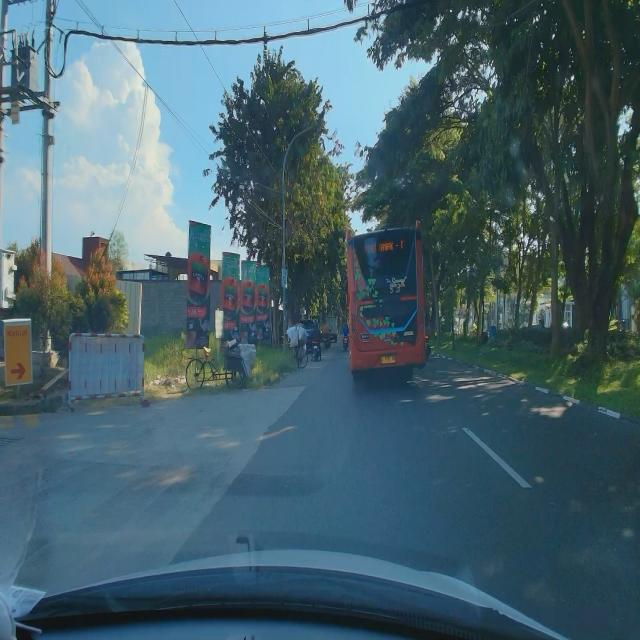bus: (344, 218, 427, 386)
license-plate: (381, 355, 396, 364)
